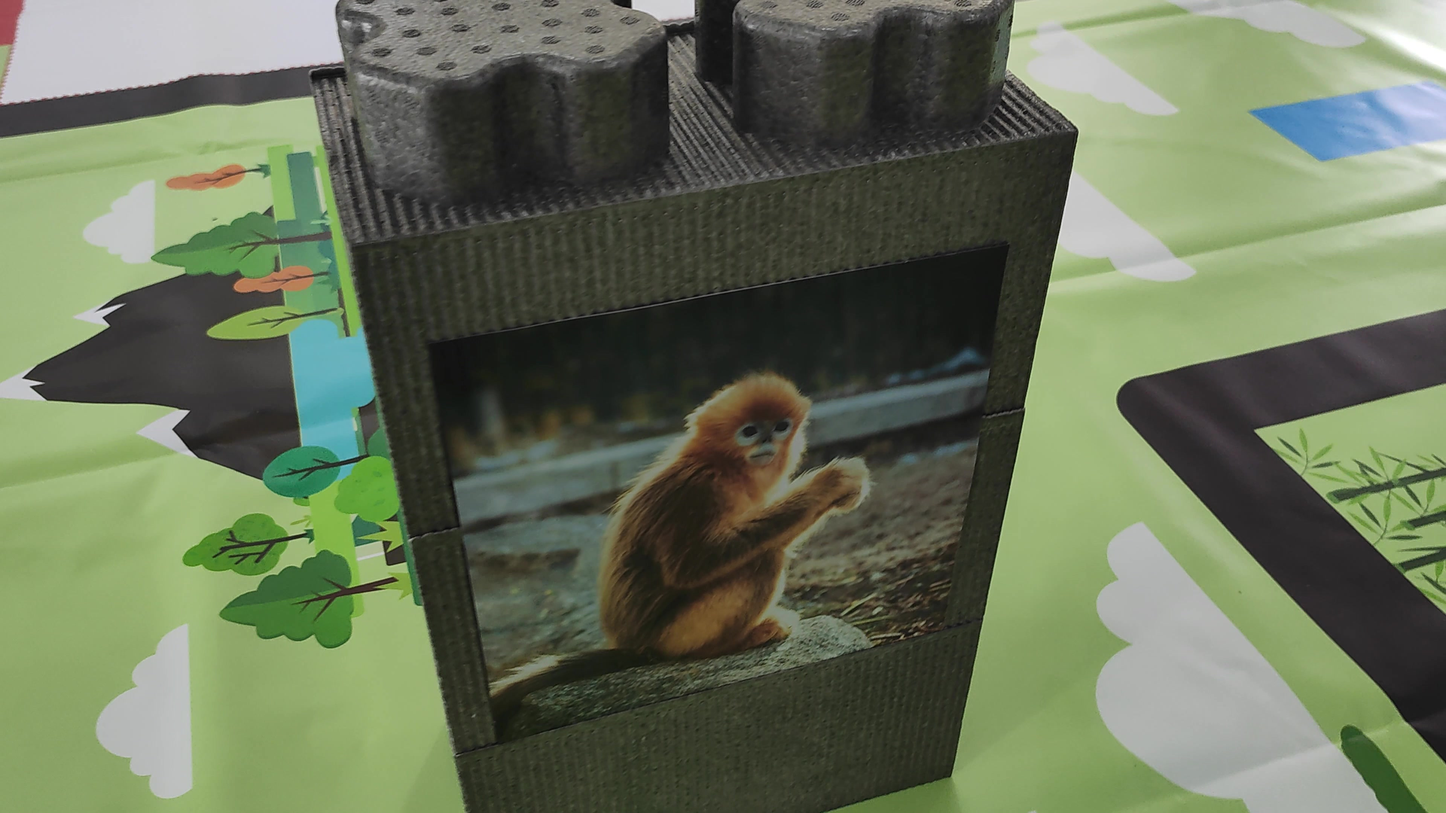monkey: (485, 367, 879, 725)
